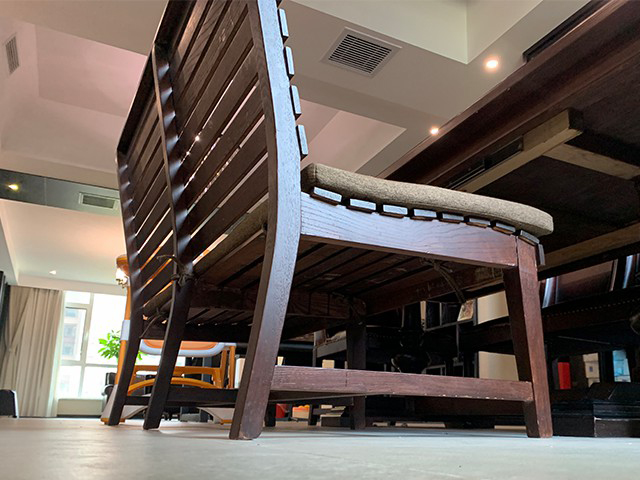curtain: (1, 283, 65, 417)
stool: (103, 1, 555, 439)
